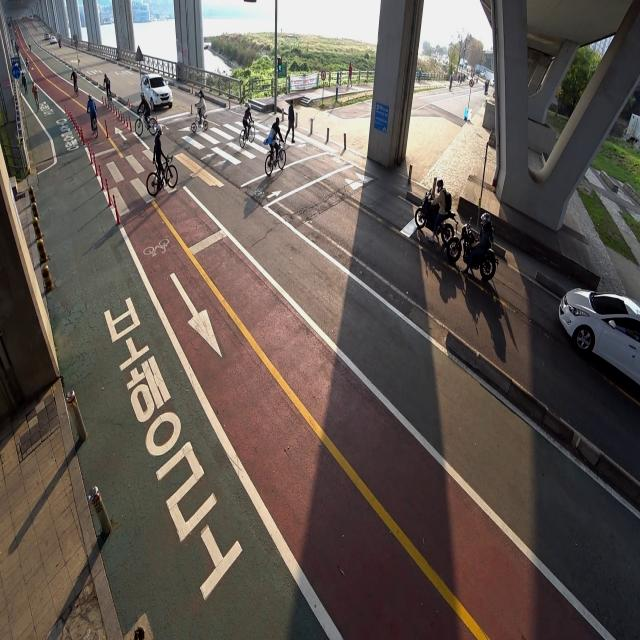Car: (551, 274, 640, 402), (141, 64, 177, 116), (44, 29, 51, 43), (51, 36, 56, 46)
Motorcycle: (445, 208, 497, 282), (414, 176, 455, 248), (55, 34, 63, 50)
